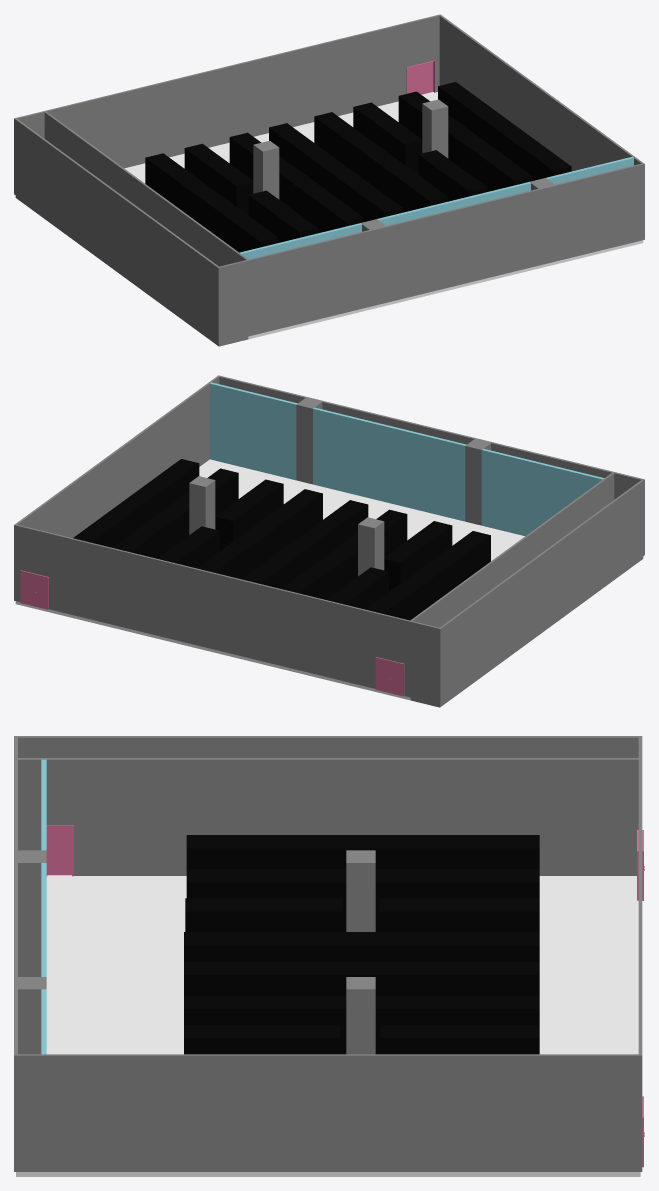
The model's file is DataCenter_AirCooling.glb.
The picture shows the model from 3 angles, top to bottom: view 1: azimuth 30°, elevation 25°; view 2: azimuth 150°, elevation 25°; view 3: azimuth 270°, elevation 25°; orthographic projection. The views are drawn at different scales.
Parts seen in each view (by area): view 1: 標準壁 PC - 150 mm [140621], 標準壁 内壁 - 135 mm 間仕切り(2時間) [141911], 標準壁 内壁 - 135 mm 間仕切り(2時間) [143327], 標準壁 内壁 - 135 mm 間仕切り(2時間) [142879], 標準壁 内壁 - 135 mm 間仕切り(2時間) [143040], ラック6 ラック [207866], ラック1 ラック [206988], ラック5 ラック [207670], ラック11 ラック [208329], ラック4 ラック [207484], ラック10 ラック [208180], 床 現場打ちコンクリート 225 mm [202686] (+11 smaller); view 2: 標準壁 内壁 - 135 mm 間仕切り(2時間) [141911], 標準壁 内壁 - 135 mm 間仕切り(2時間) [143327], 標準壁 一般 - 200 mm [143987], 標準壁 内壁 - 135 mm 間仕切り(2時間) [142879], 標準壁 一般 - 200 mm [144151], 標準壁 一般 - 200 mm [144311], 床 現場打ちコンクリート 225 mm [202686], 標準壁 内壁 - 135 mm 間仕切り(2時間) [143040], ラック6 ラック [207866], ラック1 ラック [206988], ラック11 ラック [208329], 標準壁 PC - 150 mm [140621] (+14 smaller); view 3: 標準壁 内壁 - 135 mm 間仕切り(2時間) [142879], 標準壁 内壁 - 135 mm 間仕切り(2時間) [143040], 床 現場打ちコンクリート 225 mm [202686], 標準壁 内壁 - 135 mm 間仕切り(2時間) [143327], ラック5 ラック [207670], ラック ラック [204903], ラック4 ラック [207484], ラック6 ラック [207866], ラック1 ラック [206988], ラック3 ラック [207216], ラック2 ラック [207175], ラック8 ラック [208012] (+9 smaller).
Part boxes in pixels (x1,y1,x2,y2): 標準壁 PC - 150 mm [140621]: [217, 163, 644, 343]; 標準壁 内壁 - 135 mm 間仕切り(2時間) [141911]: [16, 15, 439, 168]; 標準壁 内壁 - 135 mm 間仕切り(2時間) [143327]: [14, 118, 218, 342]; 標準壁 内壁 - 135 mm 間仕切り(2時間) [142879]: [438, 14, 642, 171]; 標準壁 内壁 - 135 mm 間仕切り(2時間) [143040]: [44, 111, 248, 266]; ラック6 ラック [207866]: [314, 112, 447, 212]; ラック1 ラック [206988]: [145, 153, 278, 252]; ラック5 ラック [207670]: [269, 123, 402, 221]; ラック11 ラック [208329]: [438, 82, 571, 180]; ラック4 ラック [207484]: [229, 132, 363, 233]; ラック10 ラック [208180]: [398, 91, 532, 191]; 床 現場打ちコンクリート 225 mm [202686]: [124, 92, 643, 339]; 標準壁 内壁 - 135 mm 間仕切り(2時間) [141911]: [16, 524, 438, 703]; 標準壁 内壁 - 135 mm 間仕切り(2時間) [143327]: [438, 480, 643, 704]; 標準壁 一般 - 200 mm [143987]: [313, 407, 466, 521]; 標準壁 内壁 - 135 mm 間仕切り(2時間) [142879]: [14, 376, 219, 600]; 標準壁 一般 - 200 mm [144151]: [210, 382, 297, 480]; 標準壁 一般 - 200 mm [144311]: [481, 448, 604, 536]; 床 現場打ちコンクリート 225 mm [202686]: [15, 459, 524, 700]; 標準壁 内壁 - 135 mm 間仕切り(2時間) [143040]: [410, 472, 614, 627]; ラック6 ラック [207866]: [197, 489, 322, 579]; ラック1 ラック [206988]: [365, 531, 490, 620]; ラック11 ラック [208329]: [73, 459, 199, 547]; 標準壁 PC - 150 mm [140621]: [217, 375, 644, 555]; 標準壁 内壁 - 135 mm 間仕切り(2時間) [142879]: [18, 1054, 642, 1171]; 標準壁 内壁 - 135 mm 間仕切り(2時間) [143040]: [18, 758, 638, 875]; 床 現場打ちコンクリート 225 mm [202686]: [16, 875, 640, 1176]; 標準壁 内壁 - 135 mm 間仕切り(2時間) [143327]: [18, 736, 642, 757]; ラック5 ラック [207670]: [184, 961, 539, 995]; ラック ラック [204903]: [186, 835, 539, 868]; ラック4 ラック [207484]: [184, 932, 539, 961]; ラック6 ラック [207866]: [184, 995, 539, 1054]; ラック1 ラック [206988]: [186, 869, 539, 931]; ラック3 ラック [207216]: [379, 898, 539, 931]; ラック2 ラック [207175]: [185, 898, 342, 931]; ラック8 ラック [208012]: [380, 1025, 539, 1054].
Size of the model in its own units: 28.29 by 5.03 by 23.59.
